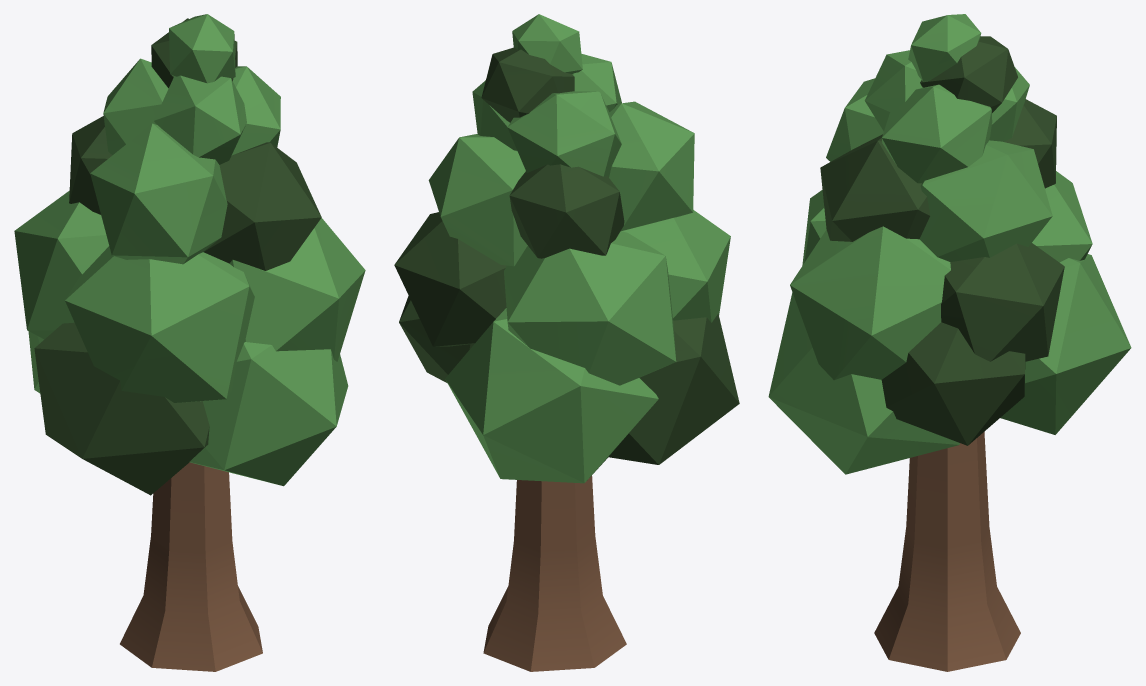
Rendered from Chêne_02.fbx.
3 renders of one model, left to right at view 1: azimuth 30°, elevation 25°; view 2: azimuth 150°, elevation 25°; view 3: azimuth 270°, elevation 25°, orthographic.
Visible parts, largest first — view 1: Chêne_02; view 2: Chêne_02; view 3: Chêne_02.
Part boxes in pixels (x1,y1,x2,y2): Chêne_02: (14,14,365,671); Chêne_02: (394,14,739,671); Chêne_02: (768,14,1131,671).
Bounding box in the file's own units: 253 × 507 × 264.
Materials: 1 (1 with a texture image).
